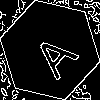A: (25, 25, 80, 81)
